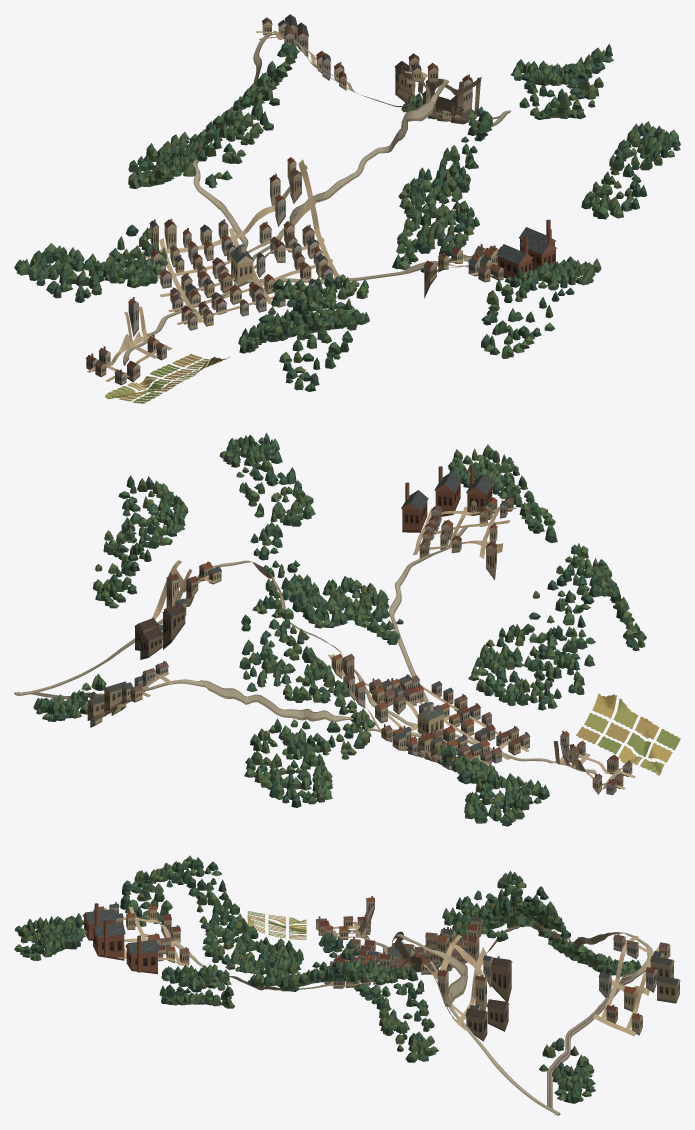
File: mineria-interior.glb
3 views of the same model, one above another, from view 1: azimuth 30°, elevation 25°; view 2: azimuth 150°, elevation 25°; view 3: azimuth 270°, elevation 25° (orthographic). The views are drawn at different scales.
Size of the model in its own units: 20.06 by 7.36 by 23.03.
1 material, 1 textured.
